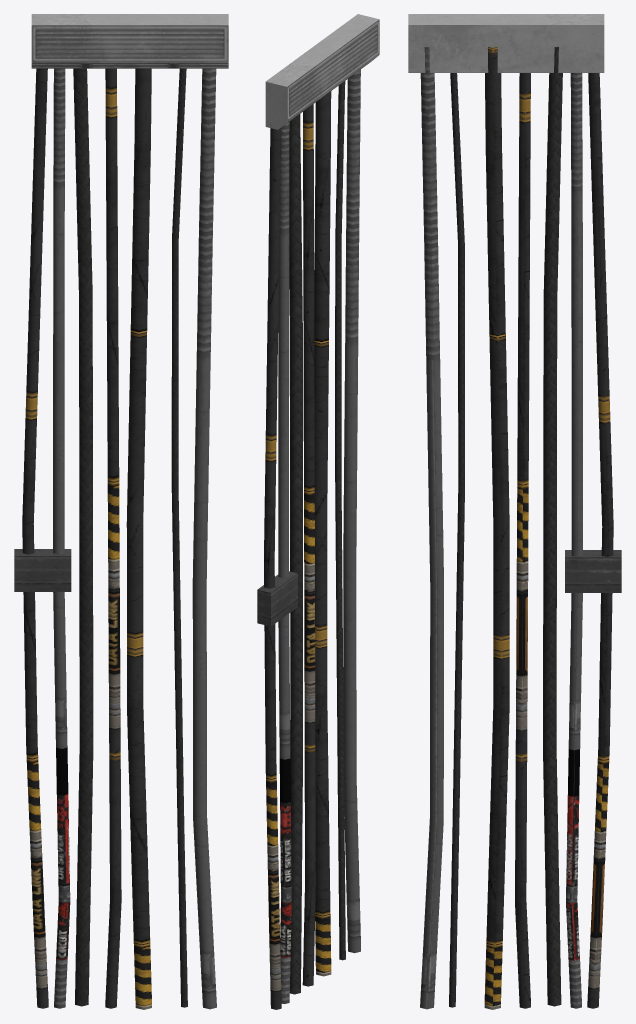
Rendered from CP_Wires_B_4m_01.fbx.
3 views of the same model, side by side, from view 1: azimuth 90°, elevation 25°; view 2: azimuth 150°, elevation 25°; view 3: azimuth 270°, elevation 25° (orthographic). The views are drawn at different scales.
Visible parts, largest first — view 1: CP_Wires_B_4m_01_LOD0; view 2: CP_Wires_B_4m_01_LOD0; view 3: CP_Wires_B_4m_01_LOD0.
Part boxes in pixels (left/top/right/bottom): CP_Wires_B_4m_01_LOD0: left=14, top=14, right=228, bottom=1009; CP_Wires_B_4m_01_LOD0: left=257, top=14, right=379, bottom=1009; CP_Wires_B_4m_01_LOD0: left=408, top=14, right=621, bottom=1009.
Size of what is drawn, in the model's own units: 10.99 by 409 by 80.28.
